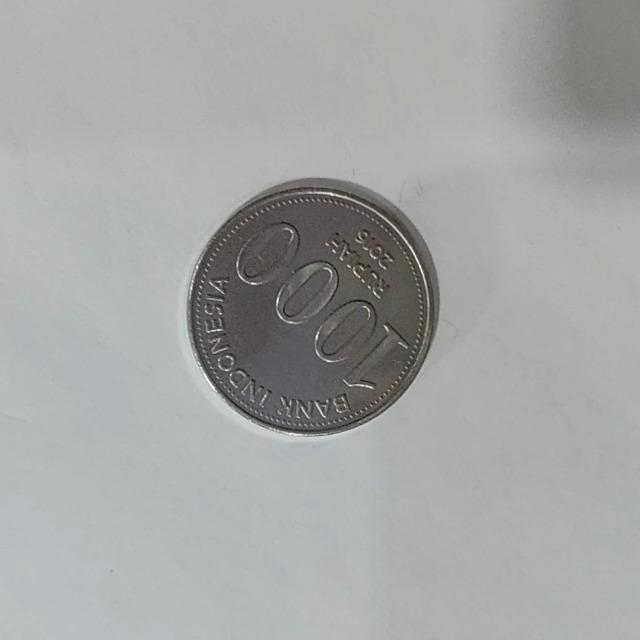Rp100: (184, 175, 440, 437)
